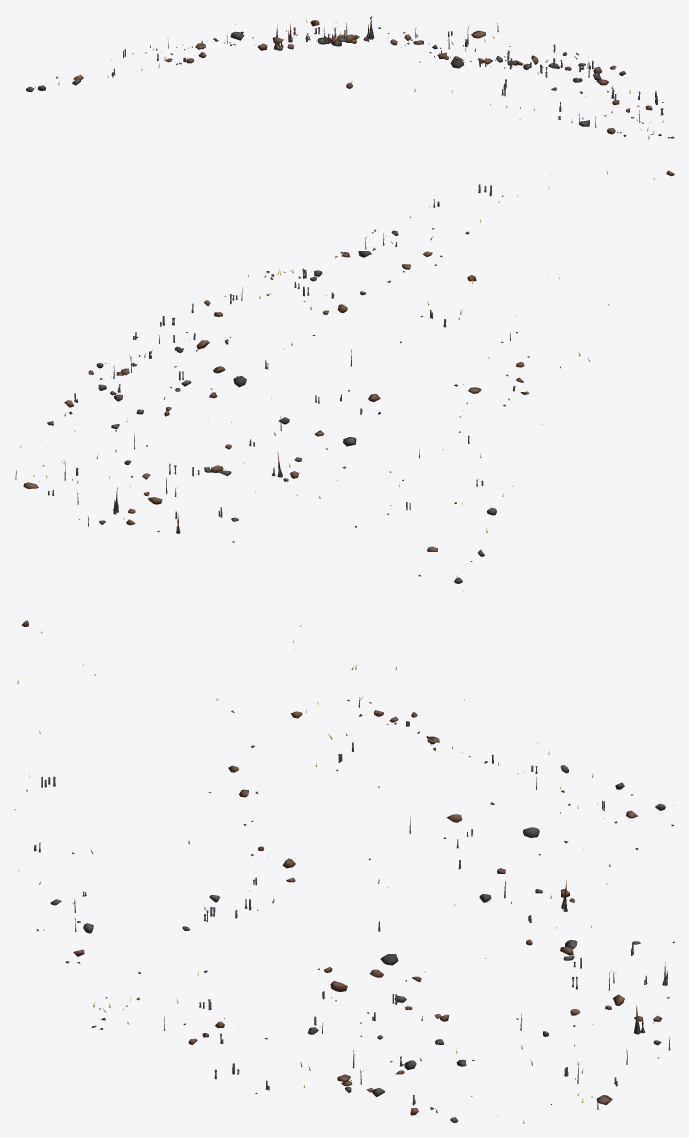
File: ash_land_scatter_c21_28_lod1.glb
3 renders of one model, top to bottom at view 1: azimuth 30°, elevation 25°; view 2: azimuth 150°, elevation 25°; view 3: azimuth 270°, elevation 25°, orthographic. The views are drawn at different scales.
Parts seen in each view (by area): view 1: ash_land_scatter_c21_28_lod1; view 2: ash_land_scatter_c21_28_lod1; view 3: ash_land_scatter_c21_28_lod1.
Boxes of the visible parts, left/top/right/bottom form: ash_land_scatter_c21_28_lod1: left=14, top=15, right=674, bottom=139; ash_land_scatter_c21_28_lod1: left=14, top=170, right=674, bottom=591; ash_land_scatter_c21_28_lod1: left=14, top=620, right=674, bottom=1123.
Size of the model in its own units: 257 by 110 by 250.
